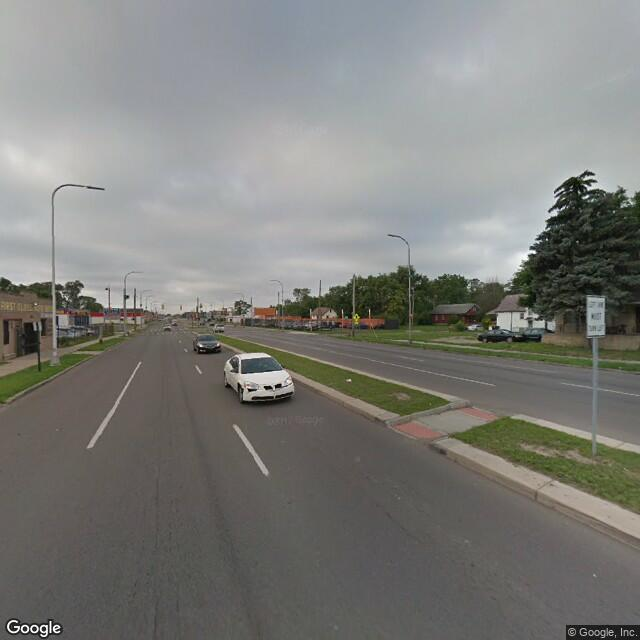litter: (344, 374, 353, 385)
